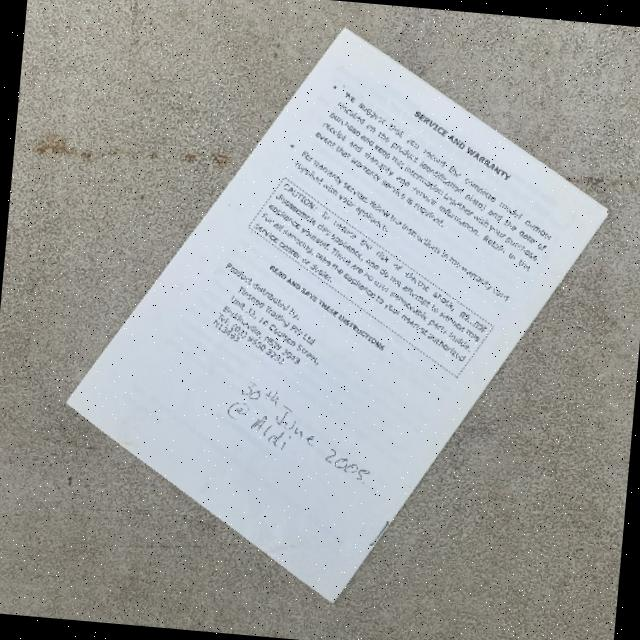paper: (49, 4, 622, 623)
